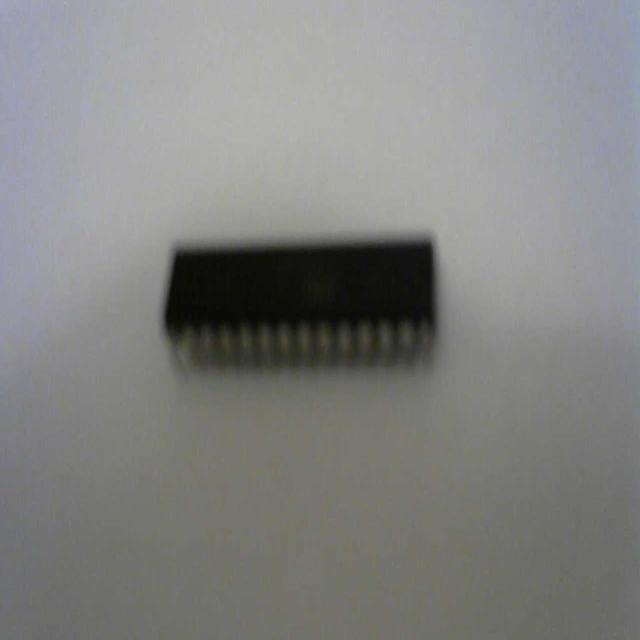atmega: (161, 230, 439, 379)
